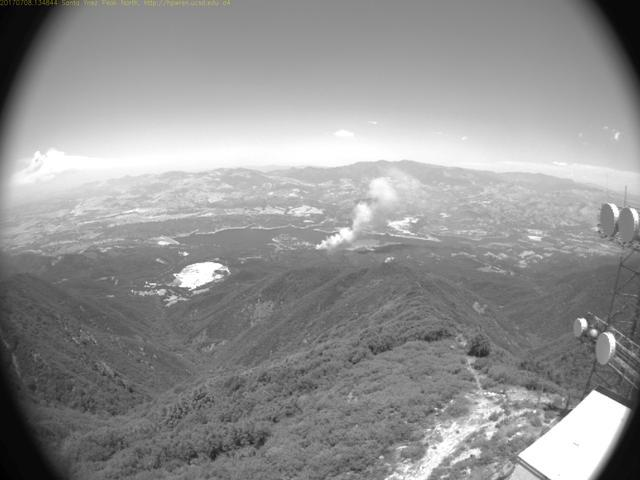smoke: (306, 167, 438, 253)
